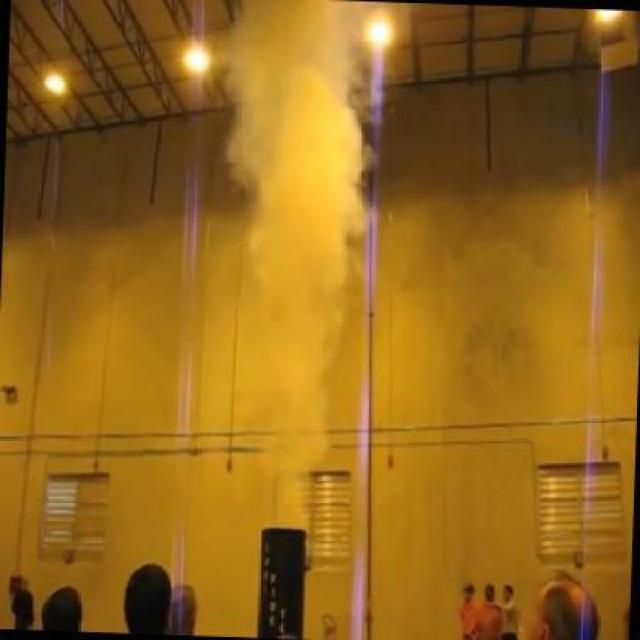fire: (221, 0, 385, 525)
